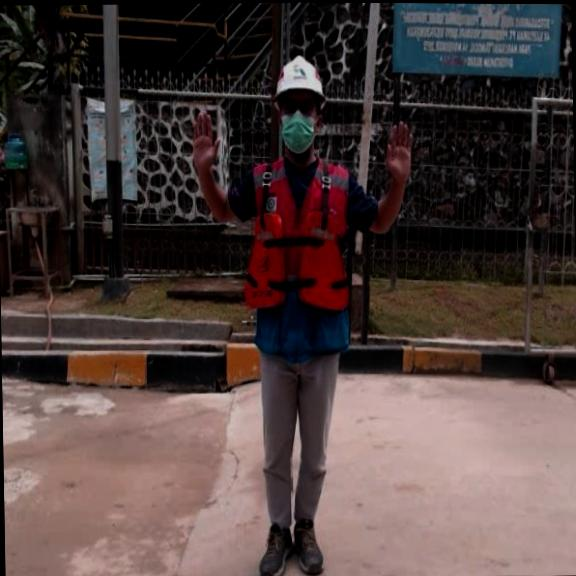safety_vest: (239, 206, 351, 313)
